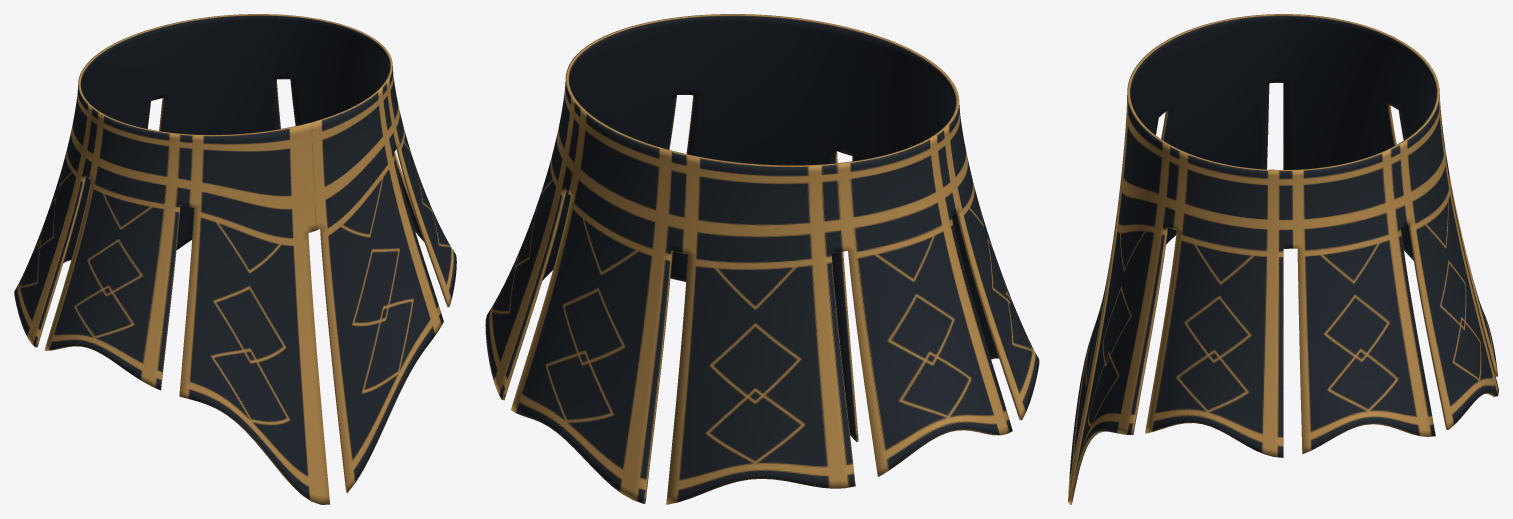
File: SM_ObsidianSovereign_Waist_preview_2K.glb
3 views of the same model, side by side, from view 1: azimuth 30°, elevation 25°; view 2: azimuth 150°, elevation 25°; view 3: azimuth 270°, elevation 25° (orthographic). The views are drawn at different scales.
Parts seen in each view (by area): view 1: SM_ObsidianSovereign_Waist; view 2: SM_ObsidianSovereign_Waist; view 3: SM_ObsidianSovereign_Waist.
Part boxes in pixels (<box>): SM_ObsidianSovereign_Waist: <box>14,14,456,504</box>; SM_ObsidianSovereign_Waist: <box>485,14,1039,504</box>; SM_ObsidianSovereign_Waist: <box>1068,14,1498,504</box>.
Size of the model in its own units: 0.444 by 0.3824 by 0.364.
Materials: 1 (1 with a texture image).
